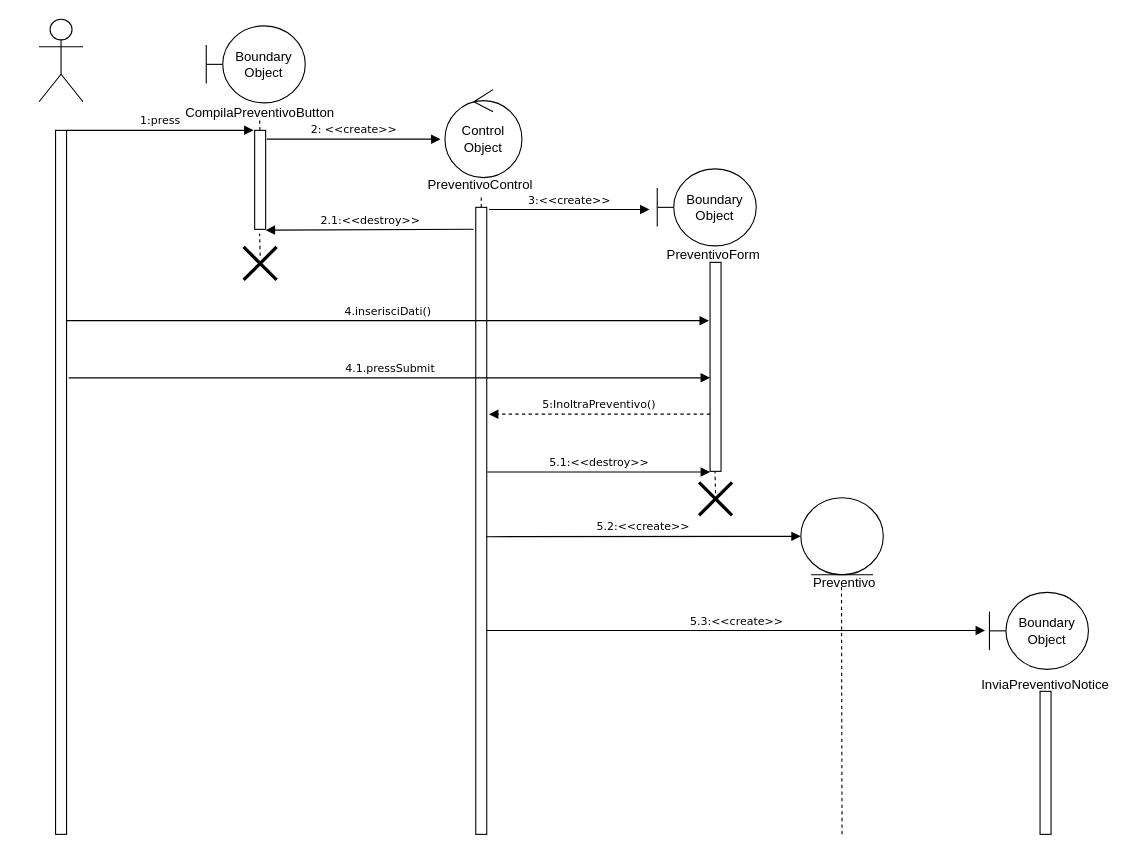
Image size: 1131x855. Some labels were removed from this diagram. The shapes that lost their labels are listed below. From the top down, each one's centre as x and y in pixels, then its label:
At (x=60, y=60): "FORNITORE".
At (x=841, y=536): "Entity Object".
